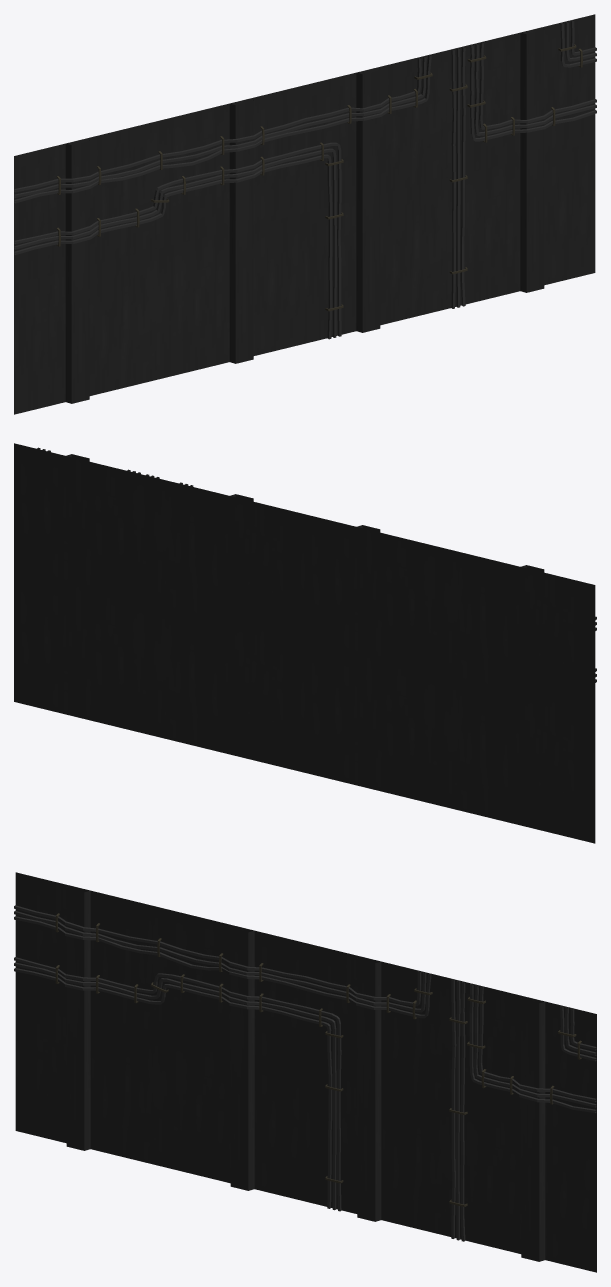
Rendered from SW_ENV_RailTunnelWall_B_01a_10m_FF.fbx.
The picture shows the model from 3 angles, top to bottom: view 1: azimuth 30°, elevation 25°; view 2: azimuth 150°, elevation 25°; view 3: azimuth 330°, elevation 25°; orthographic projection.
Visible parts, largest first — view 1: SW_ENV_RailTunnelWall_B_01a_10m_FF; view 2: SW_ENV_RailTunnelWall_B_01a_10m_FF; view 3: SW_ENV_RailTunnelWall_B_01a_10m_FF.
Boxes of the visible parts, left/top/right/bottom form: SW_ENV_RailTunnelWall_B_01a_10m_FF: left=14, top=14, right=596, bottom=414; SW_ENV_RailTunnelWall_B_01a_10m_FF: left=14, top=443, right=596, bottom=843; SW_ENV_RailTunnelWall_B_01a_10m_FF: left=14, top=872, right=596, bottom=1272.
Size of the model in its own units: 1000 by 425 by 15.54.
